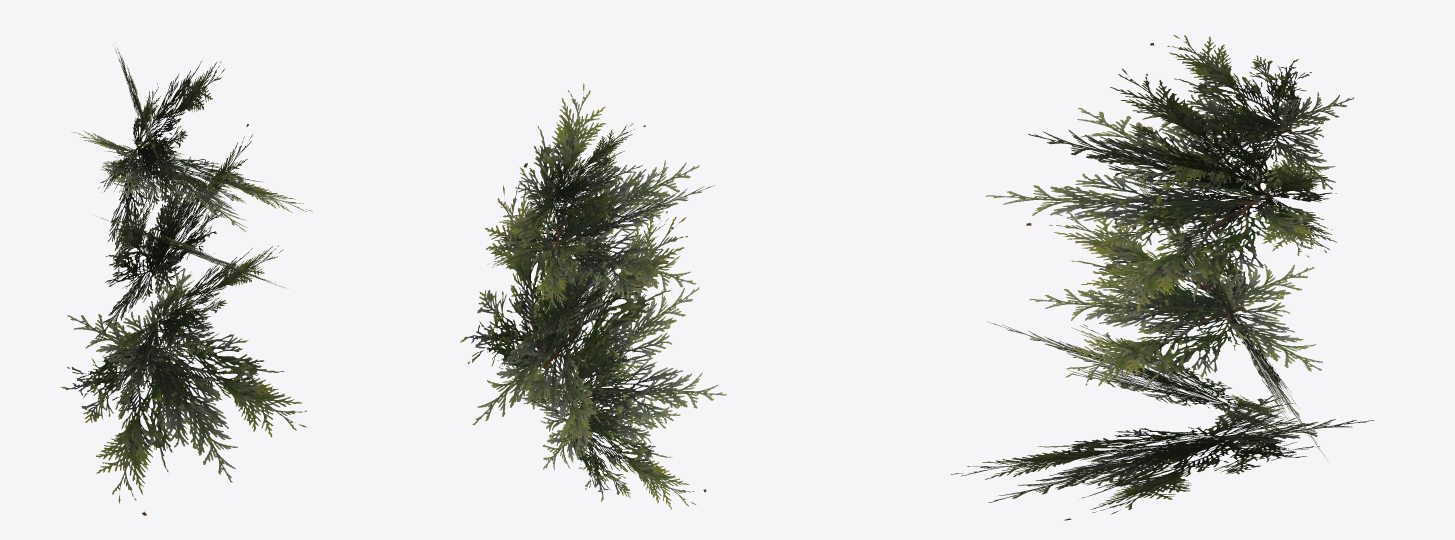
Rendered from tannenzweig 6.fbx.
3 views of the same model, side by side, from view 1: azimuth 30°, elevation 25°; view 2: azimuth 150°, elevation 25°; view 3: azimuth 270°, elevation 25° (orthographic). The views are drawn at different scales.
Visible parts, largest first — view 1: Circle_006; view 2: Circle_006; view 3: Circle_006.
Boxes of the visible parts, box(x1,y1,x2,y2) form: Circle_006: box(61, 48, 312, 515); Circle_006: box(460, 83, 726, 509); Circle_006: box(951, 35, 1374, 520).
Bounding box in the file's own units: 2.14 × 3.84 × 3.55.
